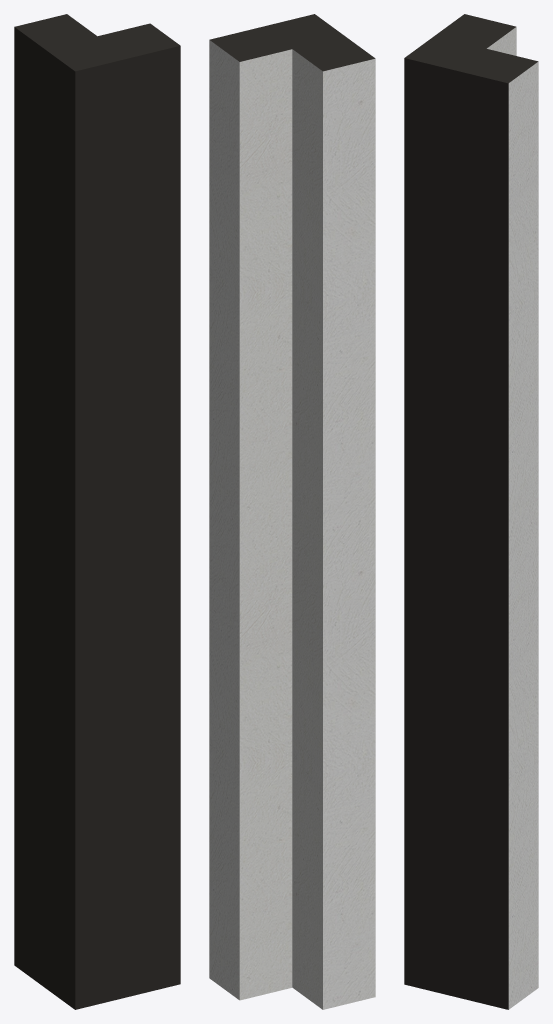
The model's file is VPS_Wall_Corner.fbx.
The picture shows the model from 3 angles, left to right: view 1: azimuth 30°, elevation 25°; view 2: azimuth 210°, elevation 25°; view 3: azimuth 330°, elevation 25°; orthographic projection.
Visible parts, largest first — view 1: GYM_Wall_Tiny_Corner; view 2: GYM_Wall_Tiny_Corner; view 3: GYM_Wall_Tiny_Corner.
Boxes of the visible parts, left/top/right/bottom form: GYM_Wall_Tiny_Corner: left=14, top=14, right=180, bottom=1009; GYM_Wall_Tiny_Corner: left=209, top=14, right=375, bottom=1009; GYM_Wall_Tiny_Corner: left=404, top=14, right=538, bottom=1009.
Size of the model in its own units: 1 by 8.5 by 1.
2 materials, 1 textured.
